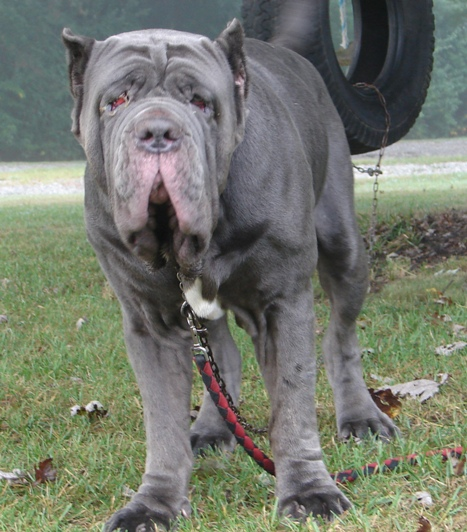neapolitan_mastiff: (62, 16, 402, 532)
